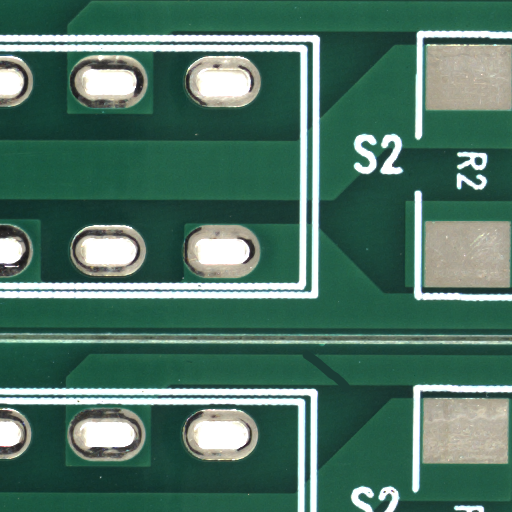Open_circuit: (328, 370, 381, 408)
